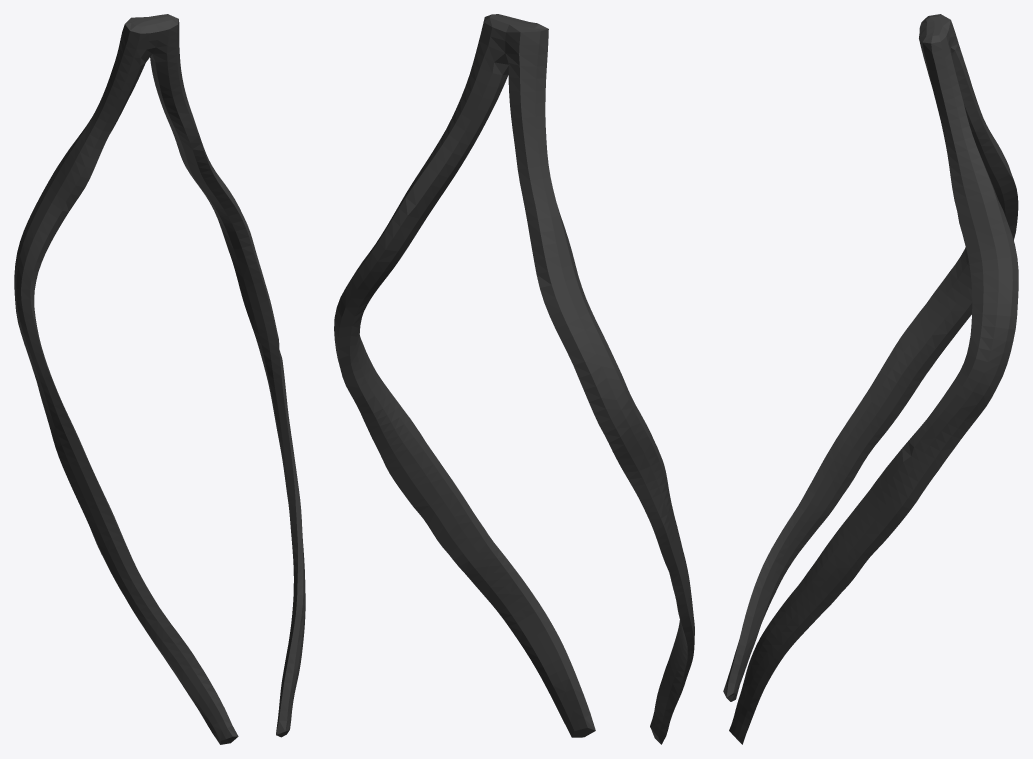
File: Interosseus_L.glb
3 views of the same model, side by side, from view 1: azimuth 30°, elevation 25°; view 2: azimuth 150°, elevation 25°; view 3: azimuth 270°, elevation 25° (orthographic). The views are drawn at different scales.
Parts seen in each view (by area): view 1: Interosseus_L; view 2: Interosseus_L; view 3: Interosseus_L.
Part boxes in pixels (x1,y1,x2,y2): Interosseus_L: (14,14,305,744); Interosseus_L: (334,14,694,744); Interosseus_L: (723,14,1018,744).
Size of the model in its own units: 2.28 by 6.12 by 2.36.
Materials: 1 (1 with a texture image).
